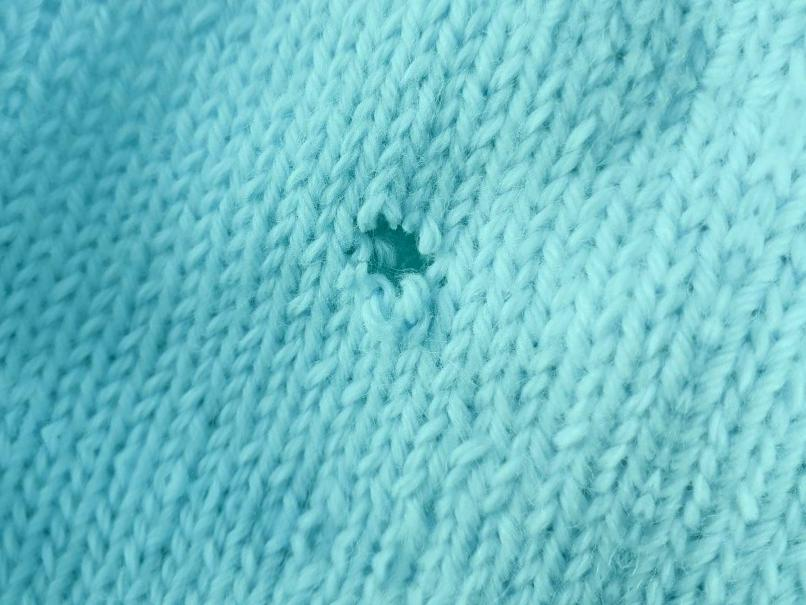hole: (351, 203, 449, 307)
